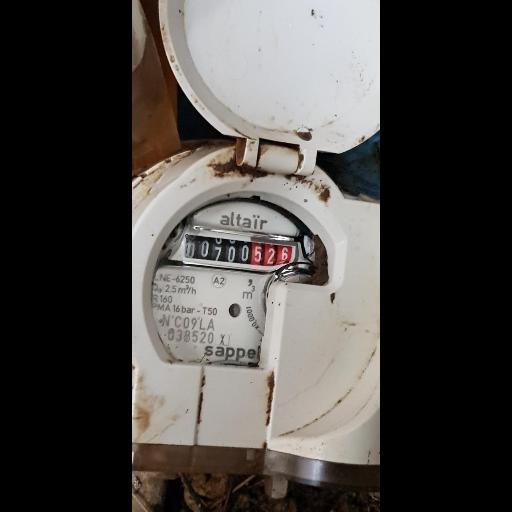0: (184, 234, 200, 260), (197, 236, 213, 262), (224, 239, 240, 265), (238, 241, 253, 266)
2: (263, 243, 279, 267)
5: (251, 242, 265, 267)
6: (277, 245, 294, 267)
7: (210, 237, 226, 263)
border_water_meter_number: (180, 227, 297, 275)
